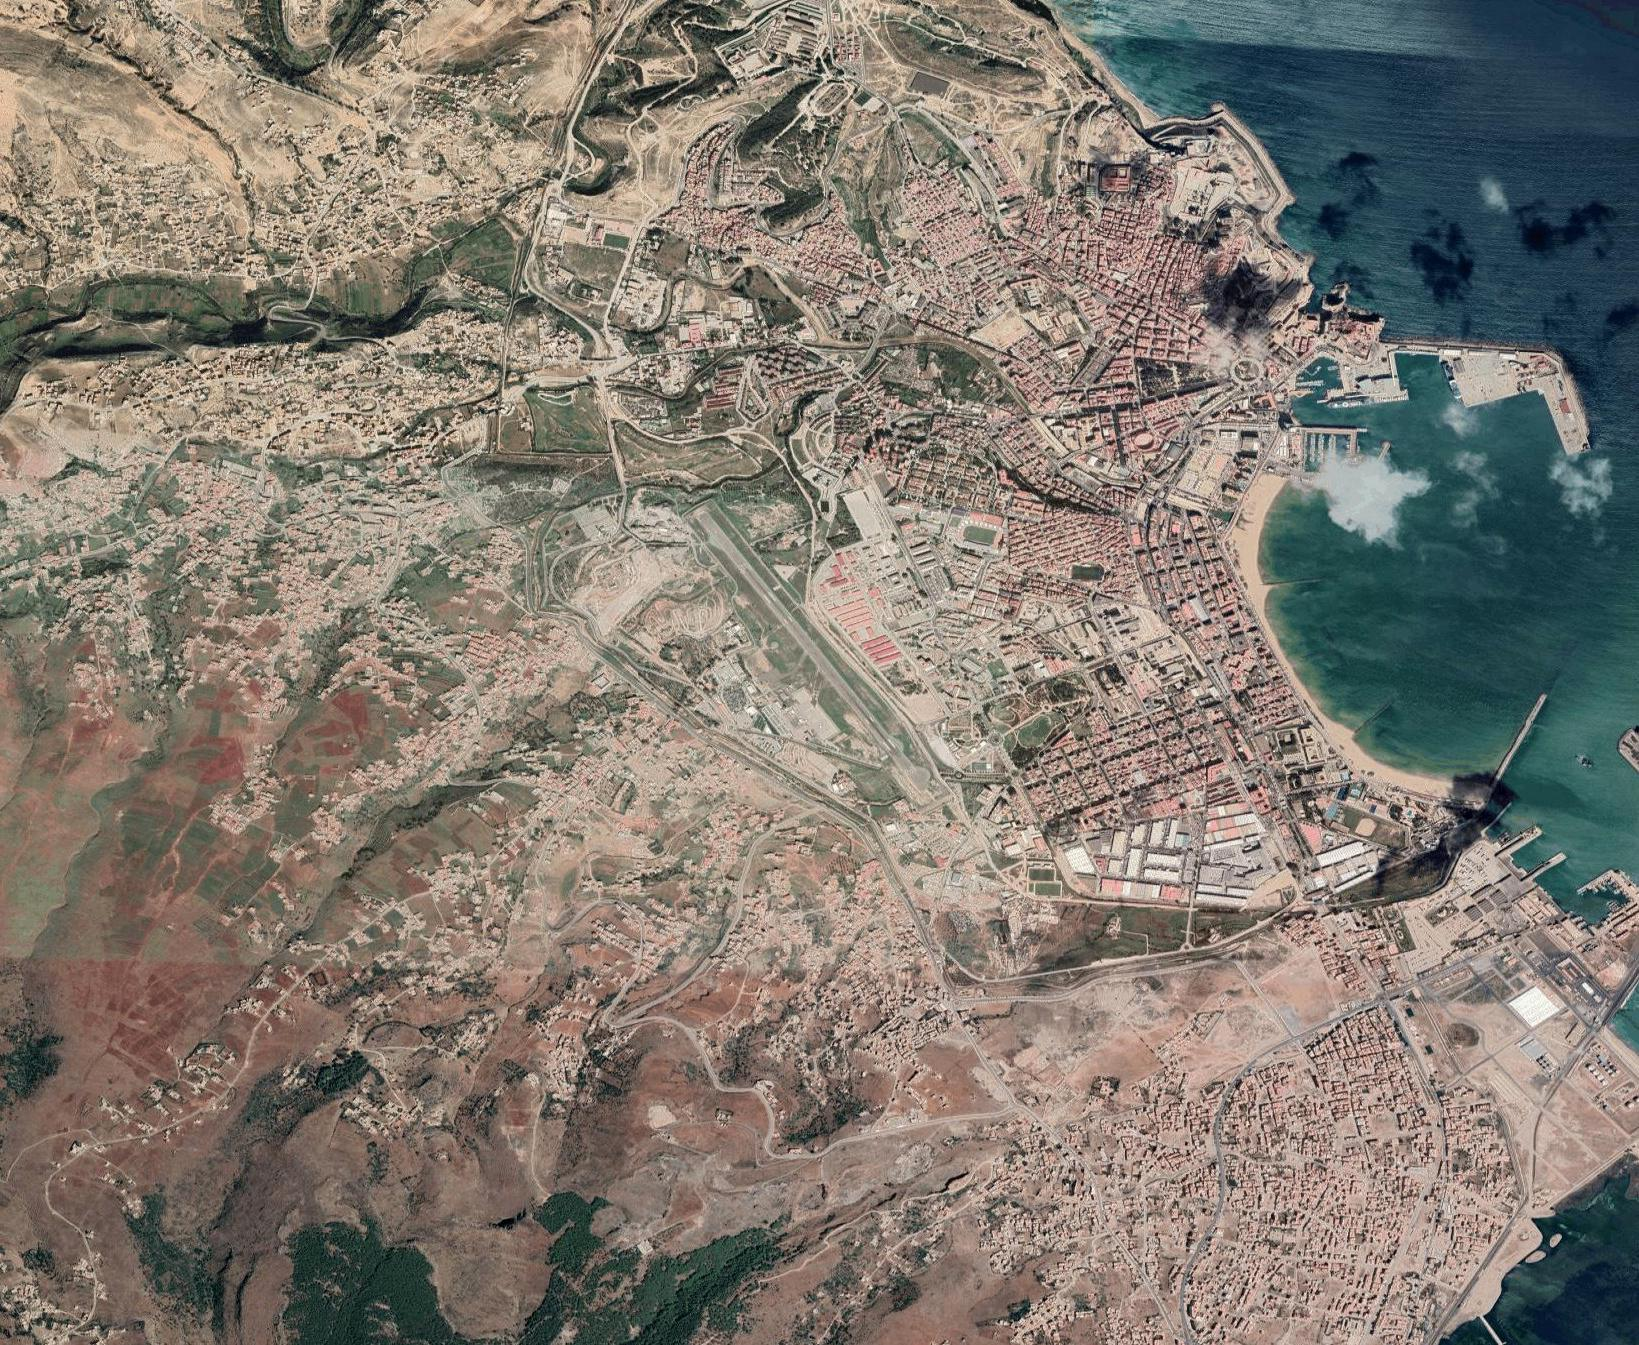airport: (692, 502, 949, 805)
harbor: (1209, 265, 1606, 859)
